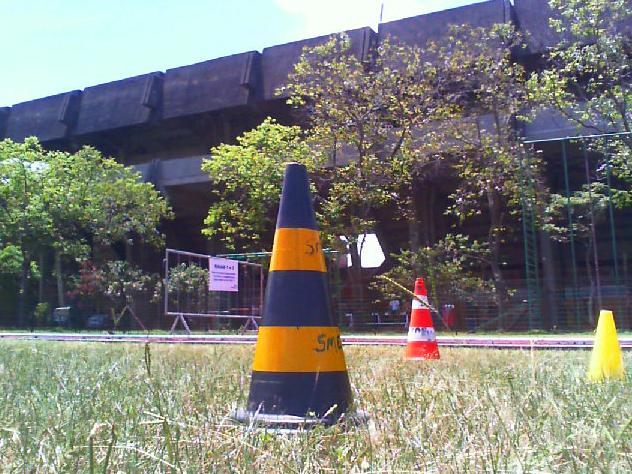0 cone: (224, 162, 376, 436), (403, 277, 444, 360), (584, 310, 624, 382)
